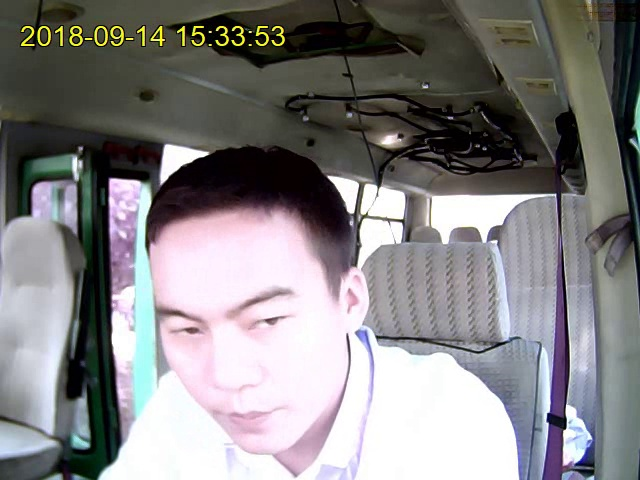closed_mouth: (222, 409, 277, 429)
open_eye: (248, 315, 295, 331), (168, 327, 205, 339)
